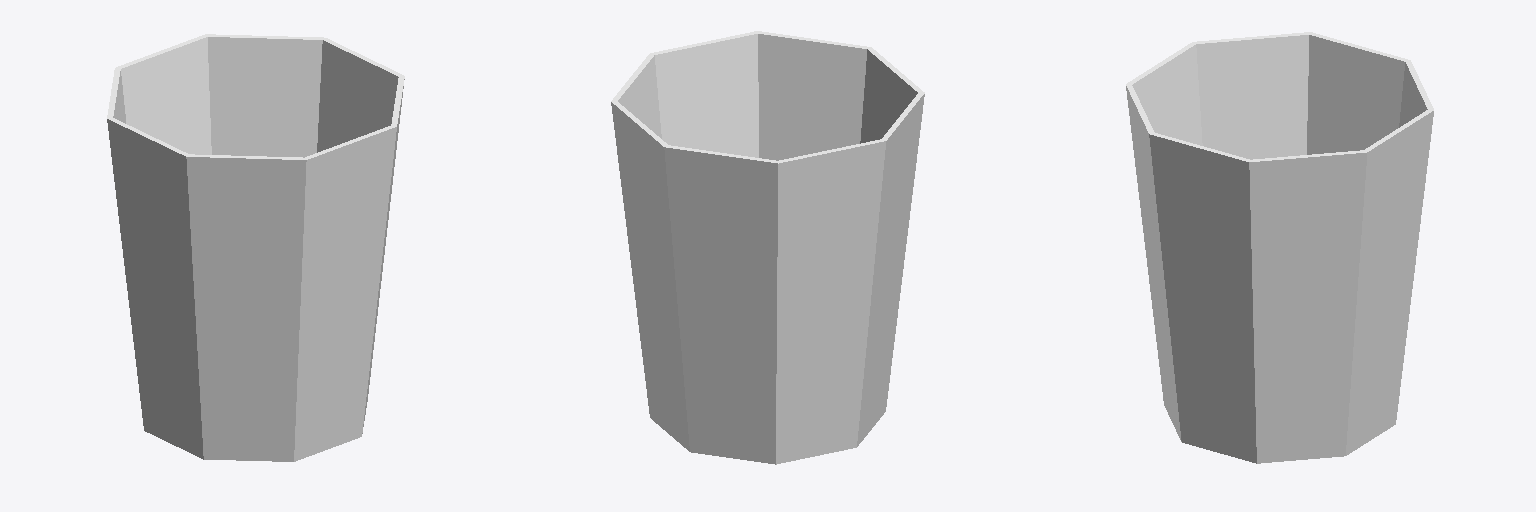
Rendered from cup.obj.
The picture shows the model from 3 angles: view 1: azimuth 30°, elevation 25°; view 2: azimuth 150°, elevation 25°; view 3: azimuth 270°, elevation 25°; orthographic projection.
Visible parts, largest first — view 1: Cylinder; view 2: Cylinder; view 3: Cylinder.
Part boxes in pixels (x1,y1,x2,y2): Cylinder: (107, 34, 404, 461); Cylinder: (611, 31, 924, 464); Cylinder: (1126, 32, 1433, 463).
Bounding box in the file's own units: 2.61 × 2.96 × 2.61.